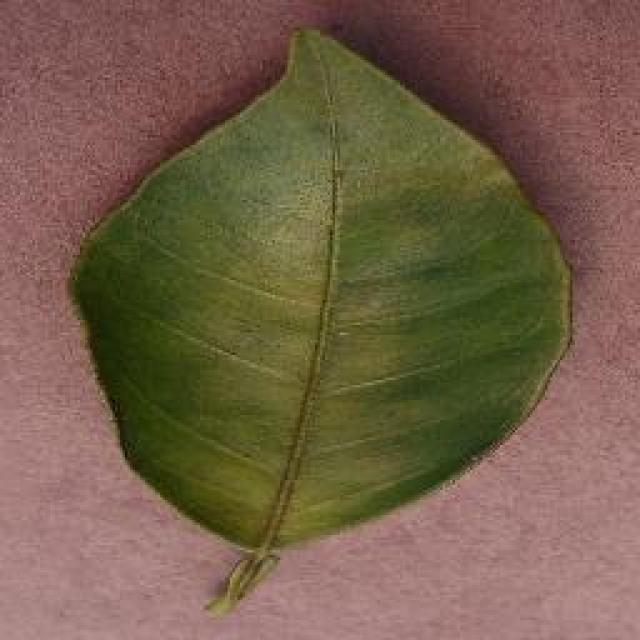Orange_Haunglongbing_Citrus_greening: (120, 141, 542, 505)
